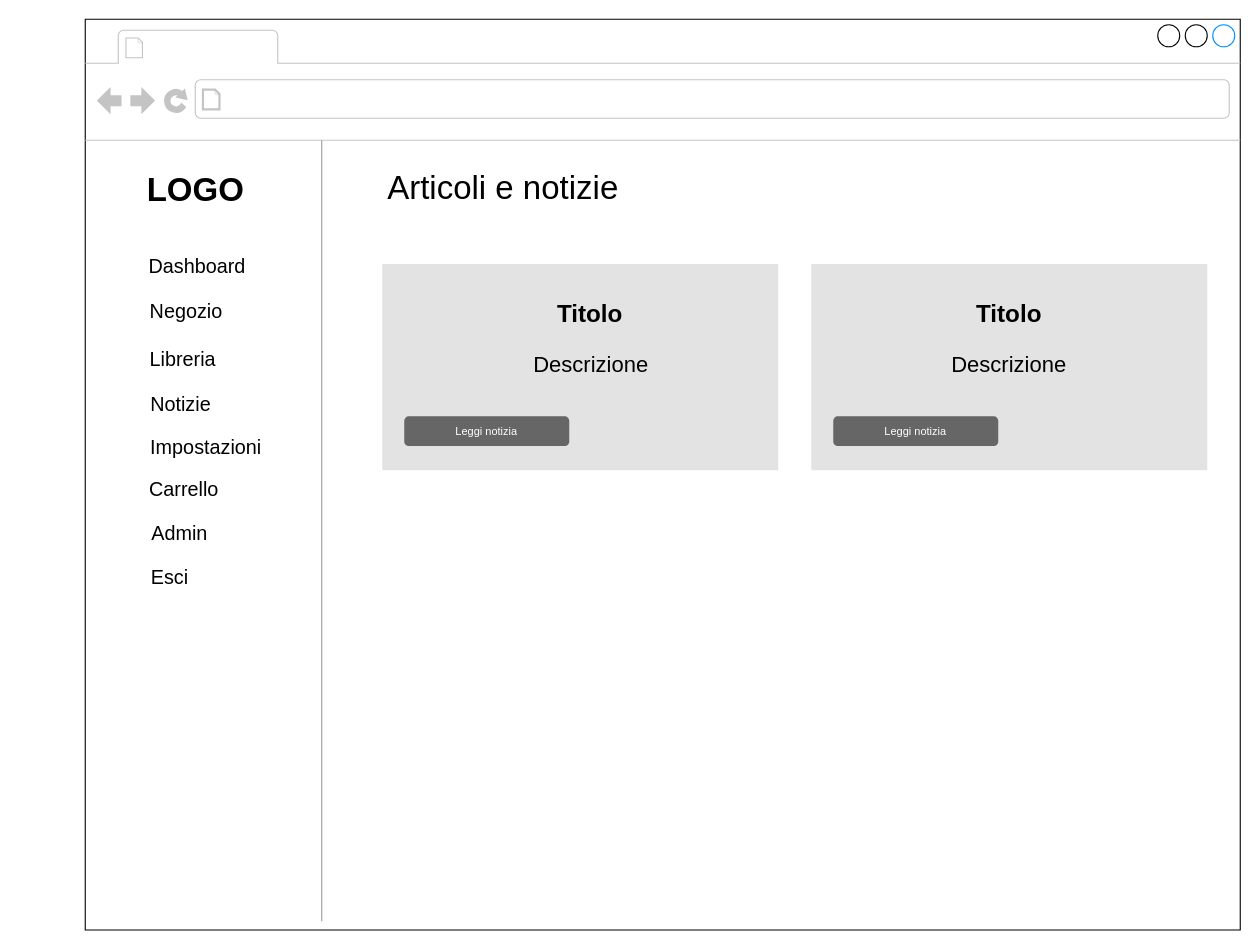
Image size: 1260x949. Some labels were removed from this diagram. The shapes that lost their labels are listed below. From the top down, each one's box as (x1, y1, x2, y2) in pixels, then its label:
(150, 31, 272, 61): Page 1
(227, 84, 503, 114): https://www.default.com
